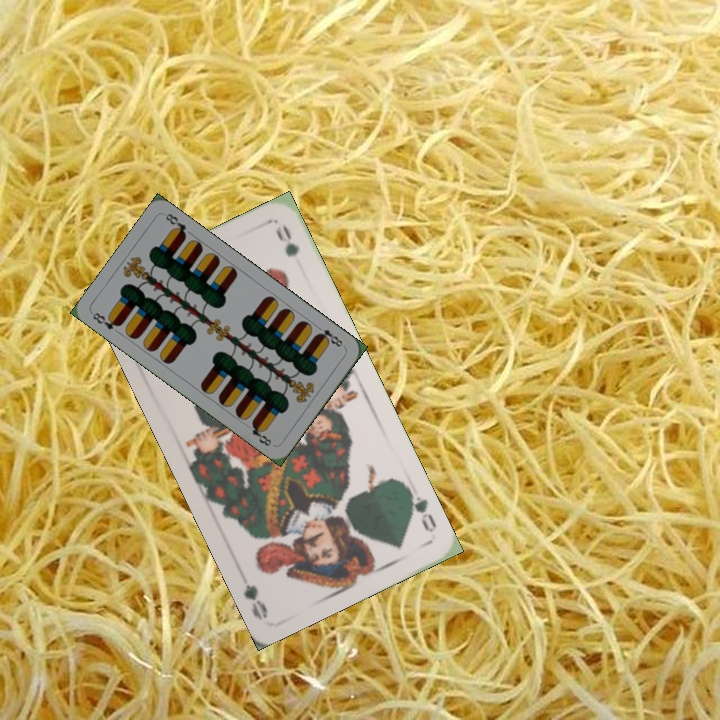E8: (312, 321, 347, 350), (88, 308, 123, 332)
GO: (402, 483, 440, 535)
